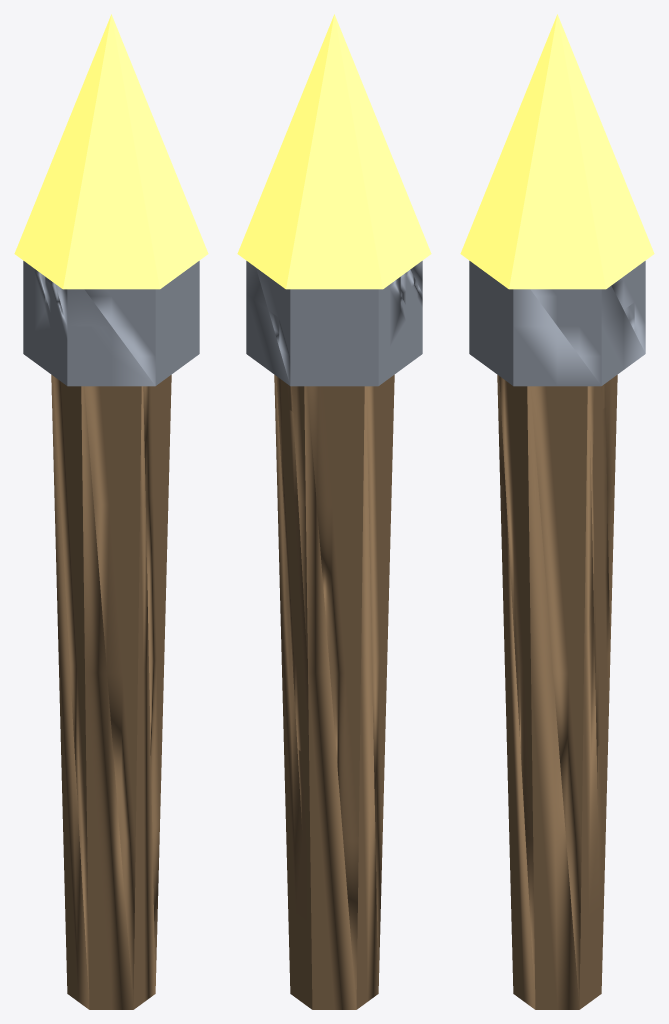
The model's file is torch.glb.
3 renders of one model, left to right at view 1: azimuth 30°, elevation 25°; view 2: azimuth 150°, elevation 25°; view 3: azimuth 270°, elevation 25°, orthographic.
Visible parts, largest first — view 1: TorchPost; view 2: TorchPost; view 3: TorchPost.
Part boxes in pixels (x1,y1,x2,y2): TorchPost: [14, 14, 208, 1009]; TorchPost: [237, 14, 431, 1009]; TorchPost: [460, 14, 654, 1009].
Bounding box in the file's own units: 0.3811 × 2.45 × 0.44.
